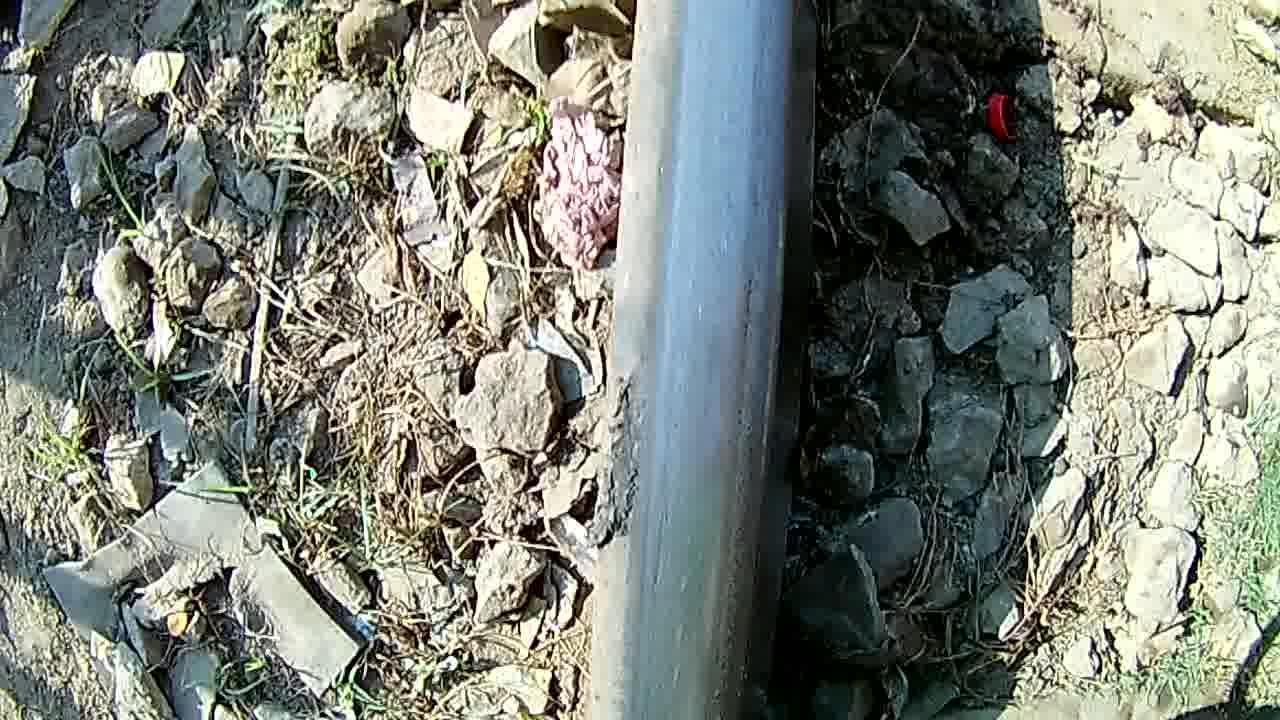crack: (592, 0, 798, 720)
